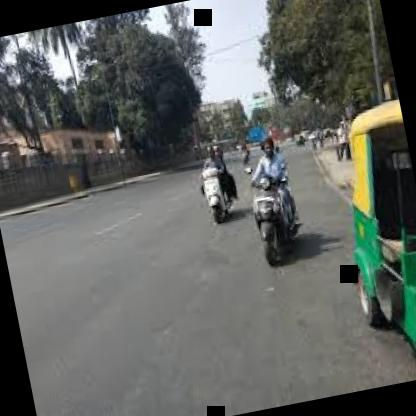car: (318, 87, 416, 369)
